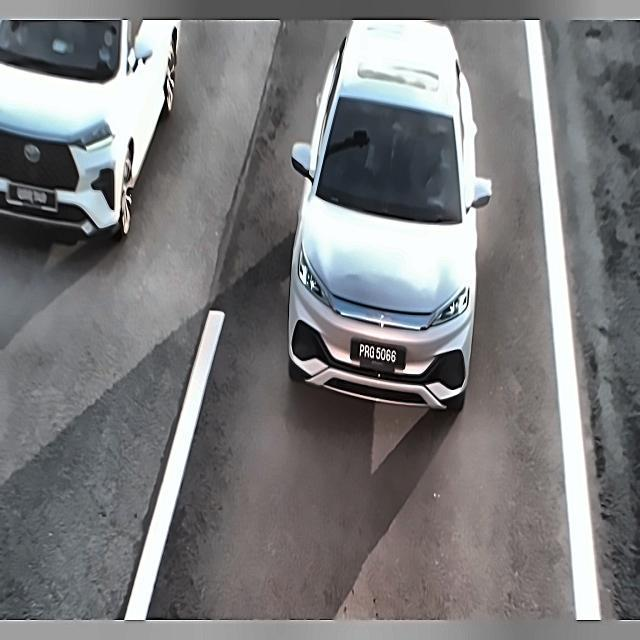car: (350, 331, 402, 372), (7, 178, 62, 216)
